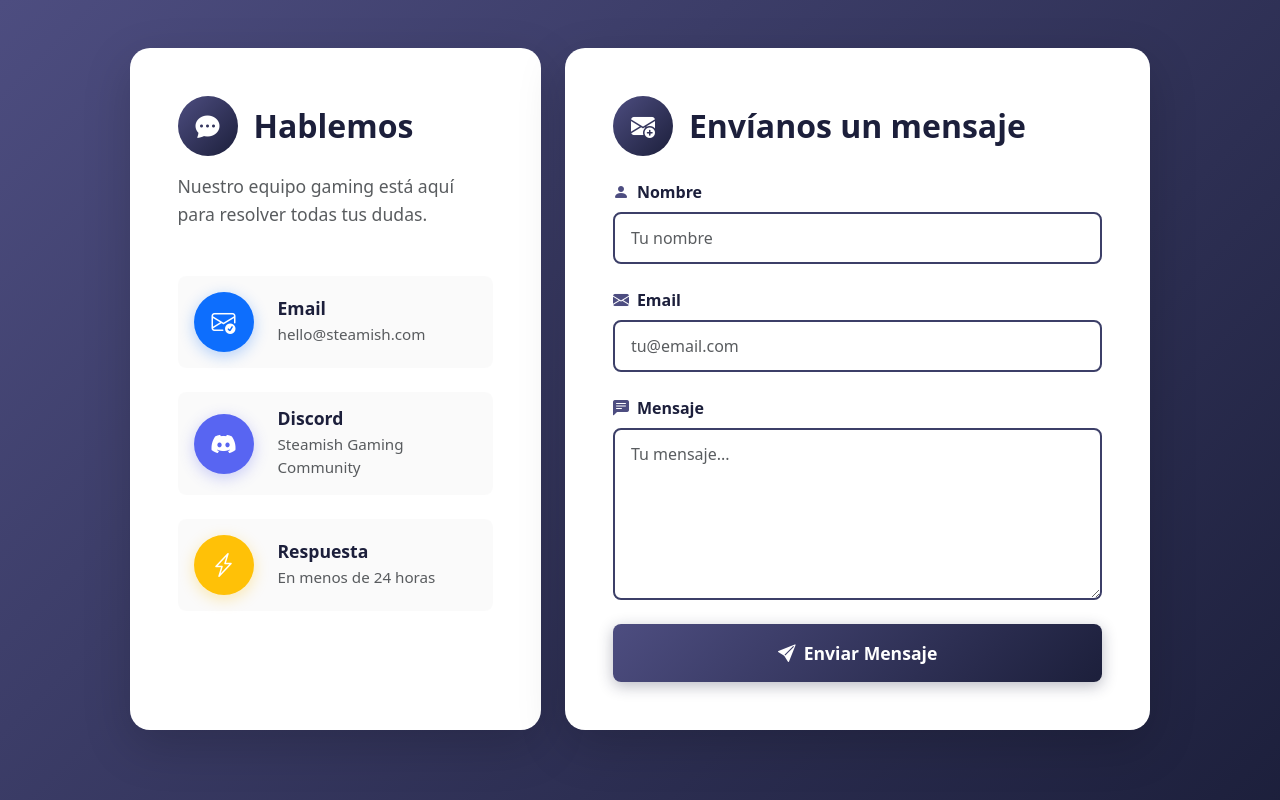
Test case: Contact Component › debe enviar el formulario correctamente
Type "Test User" into the field with placeholder "Tu nombre" at (858, 238), box [613, 212, 1102, 264]
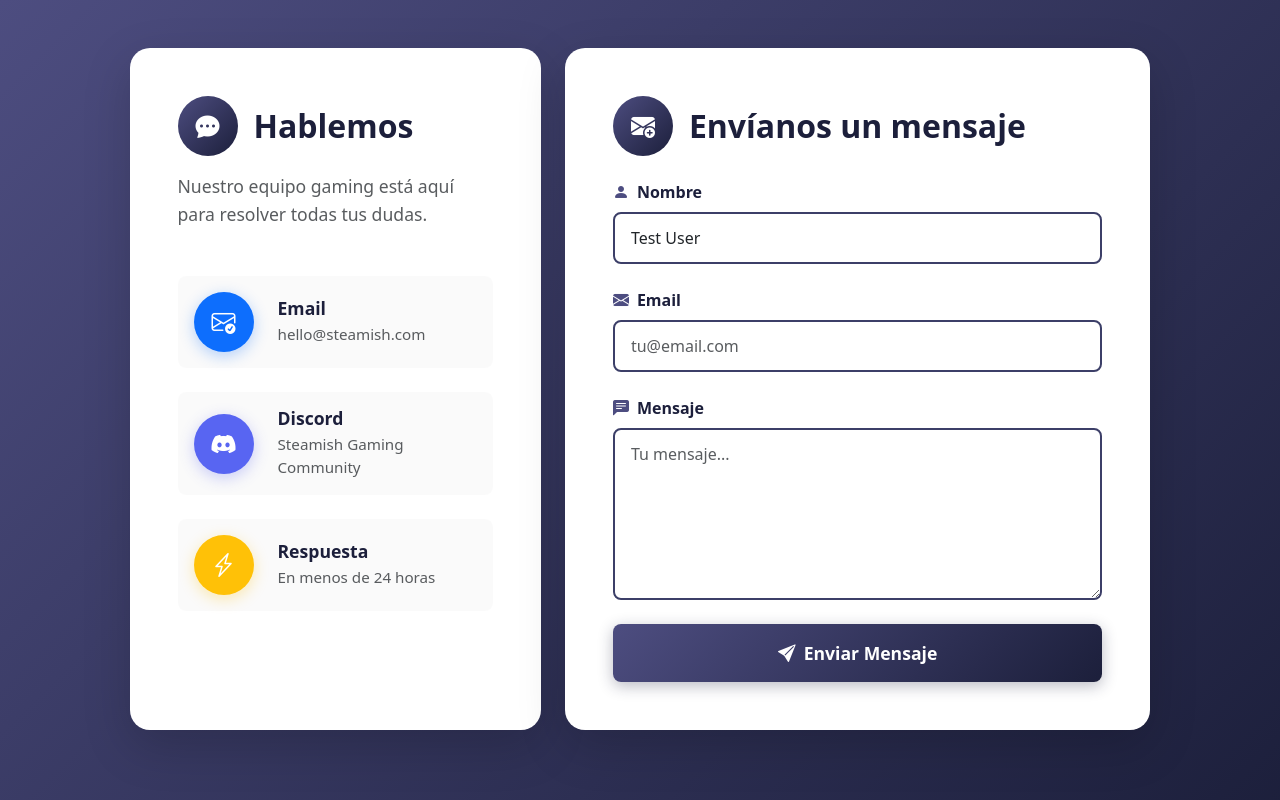
Type "test@test.com" into the field with placeholder "tu@email.com" at (858, 346), box [613, 320, 1102, 372]
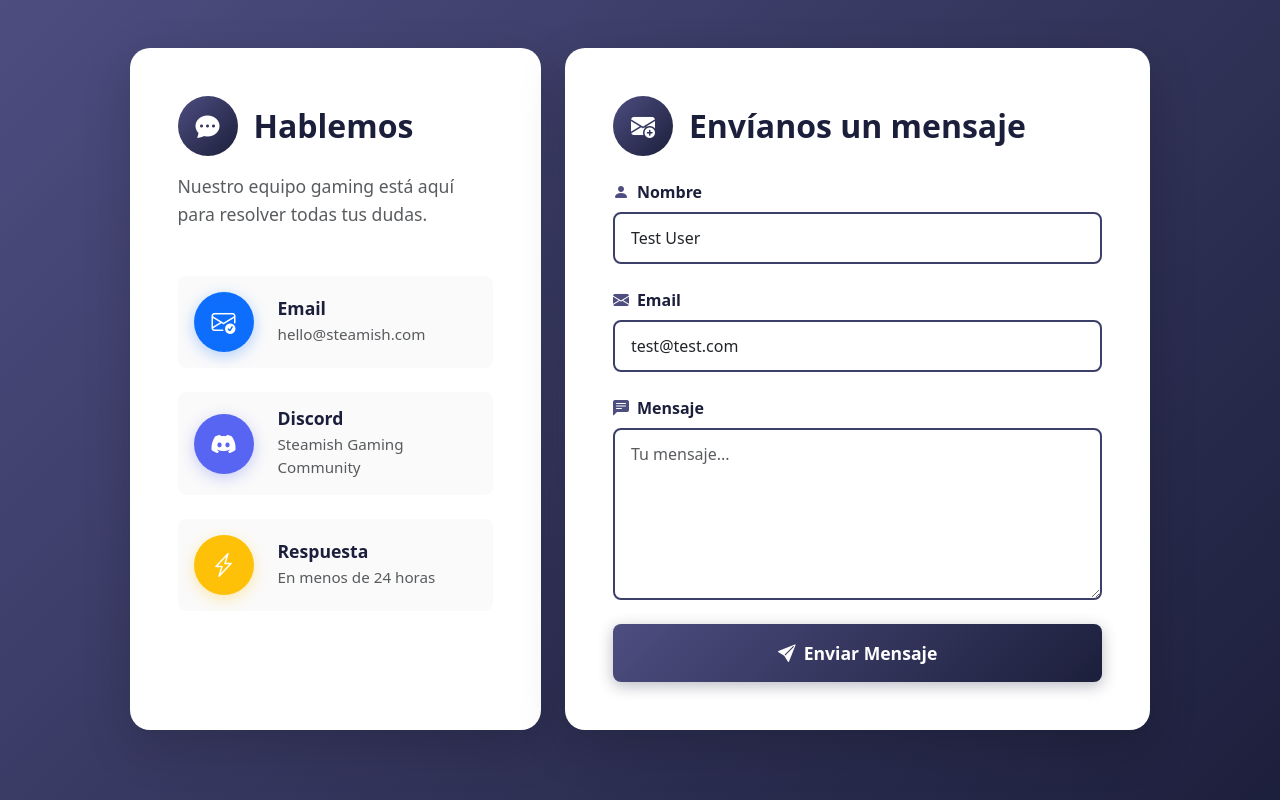
Type "Test message" into the text box with placeholder "Tu mensaje..." at (858, 514), box [613, 428, 1102, 600]
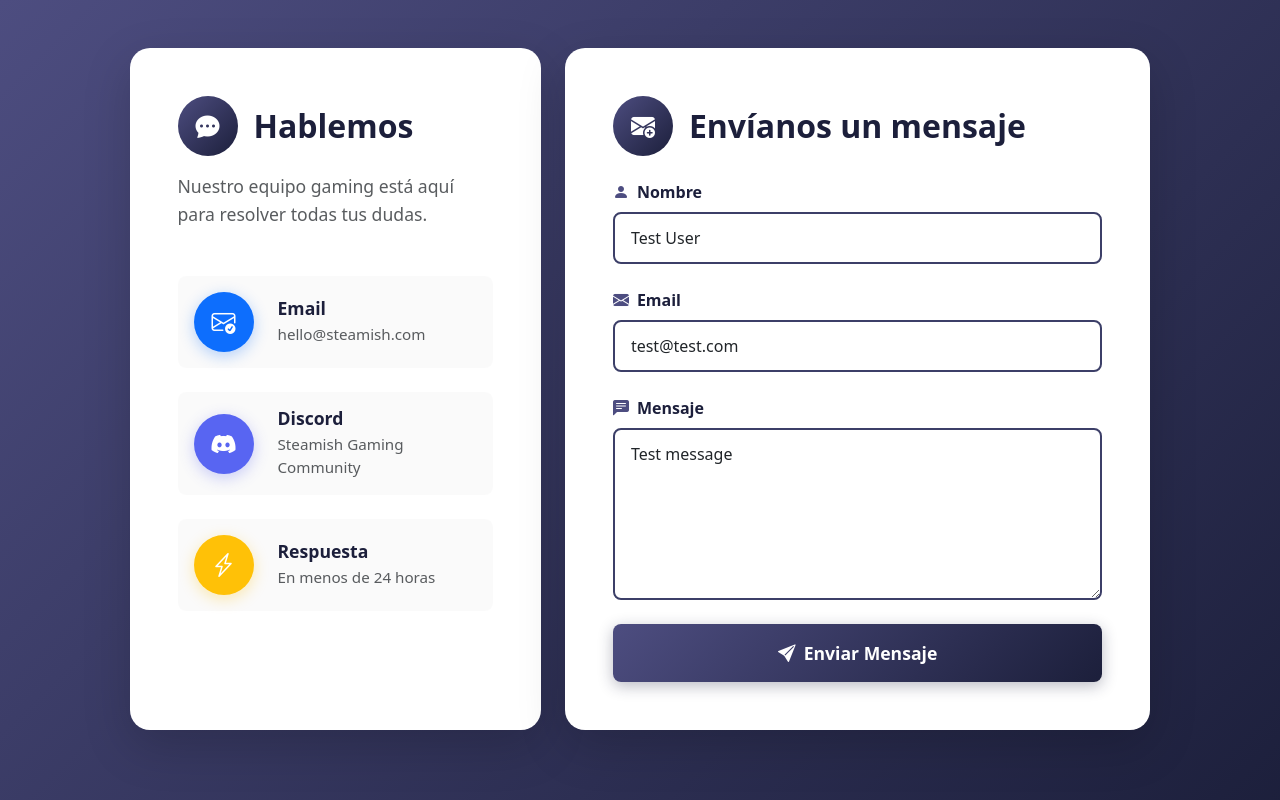
Click the button "Enviar Mensaje" at (858, 653), box [613, 624, 1102, 682]
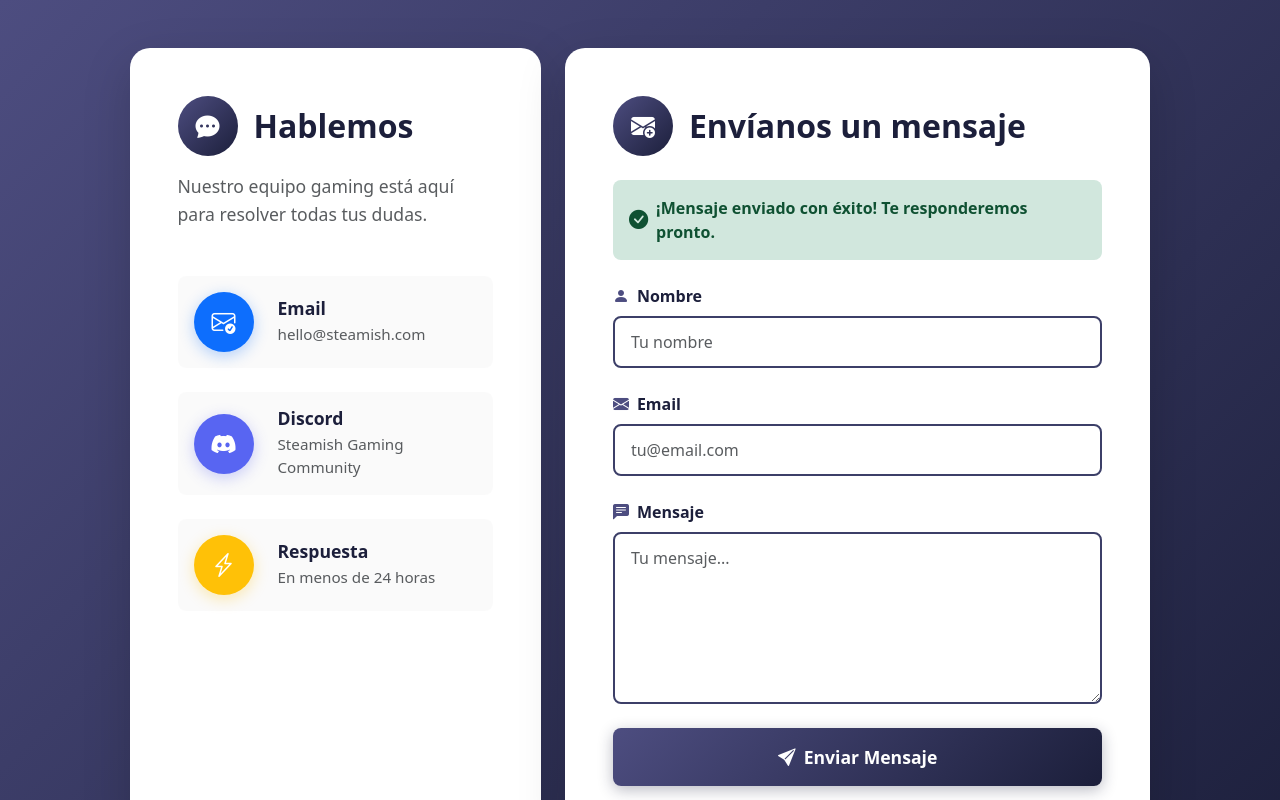
Expected: the text "¡Mensaje enviado con éxito! Te responderemos pronto." is shown, [656, 196, 1086, 244]
